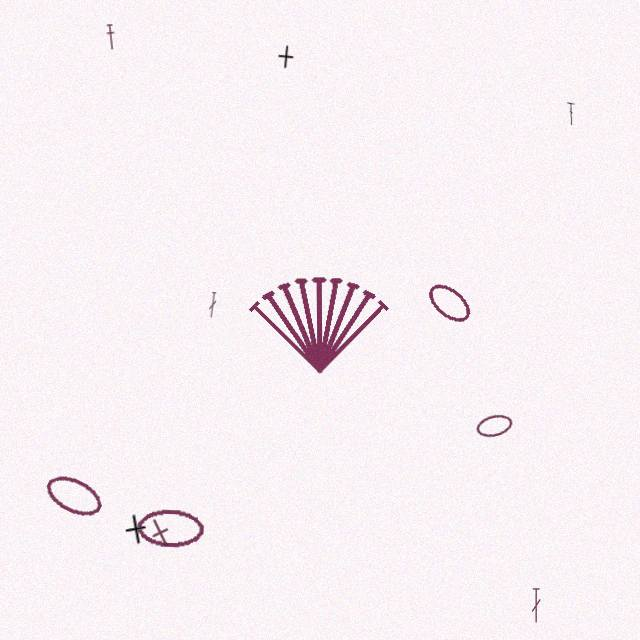chain: (40, 468, 107, 524), (422, 277, 477, 329), (136, 508, 204, 549), (474, 411, 515, 440)
double: (530, 588, 542, 623), (207, 292, 218, 318), (567, 102, 575, 125)
fan: (247, 265, 392, 375)
half_double: (105, 24, 117, 50)
single: (140, 512, 181, 553), (122, 513, 149, 546), (276, 45, 295, 69)
